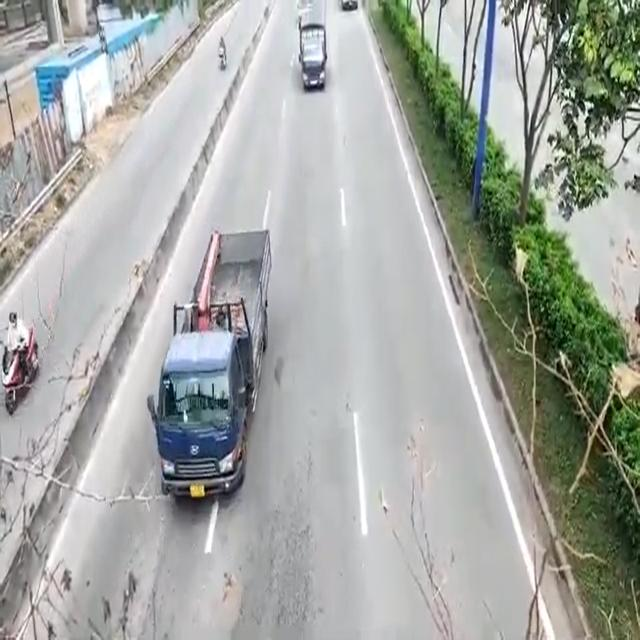motor: (2, 338, 35, 408), (217, 42, 228, 73)
truck: (162, 230, 266, 510), (300, 15, 326, 94)
